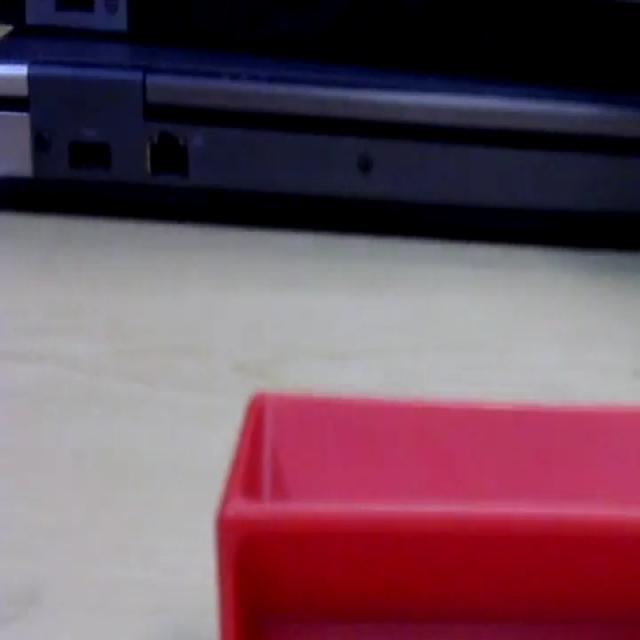red_block: (214, 387, 638, 636)
